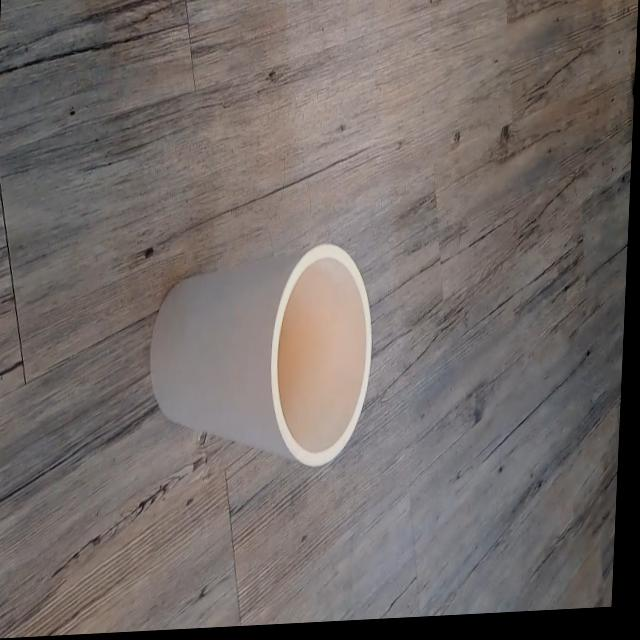CORAL: (122, 151, 405, 506)
